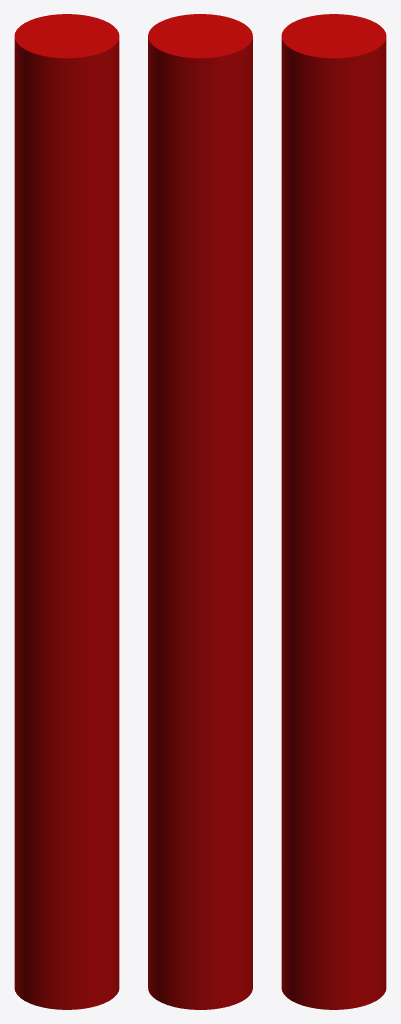
Rendered from RedFlare.obj.
3 renders of one model, left to right at view 1: azimuth 90°, elevation 25°; view 2: azimuth 150°, elevation 25°; view 3: azimuth 270°, elevation 25°, orthographic.
Visible parts, largest first — view 1: Solid1; view 2: Solid1; view 3: Solid1.
Boxes of the visible parts, left/top/right/bottom form: Solid1: left=14, top=14, right=119, bottom=1009; Solid1: left=148, top=14, right=252, bottom=1009; Solid1: left=281, top=14, right=386, bottom=1009.
Bounding box in the file's own units: 0.15 × 1.5 × 0.15.
